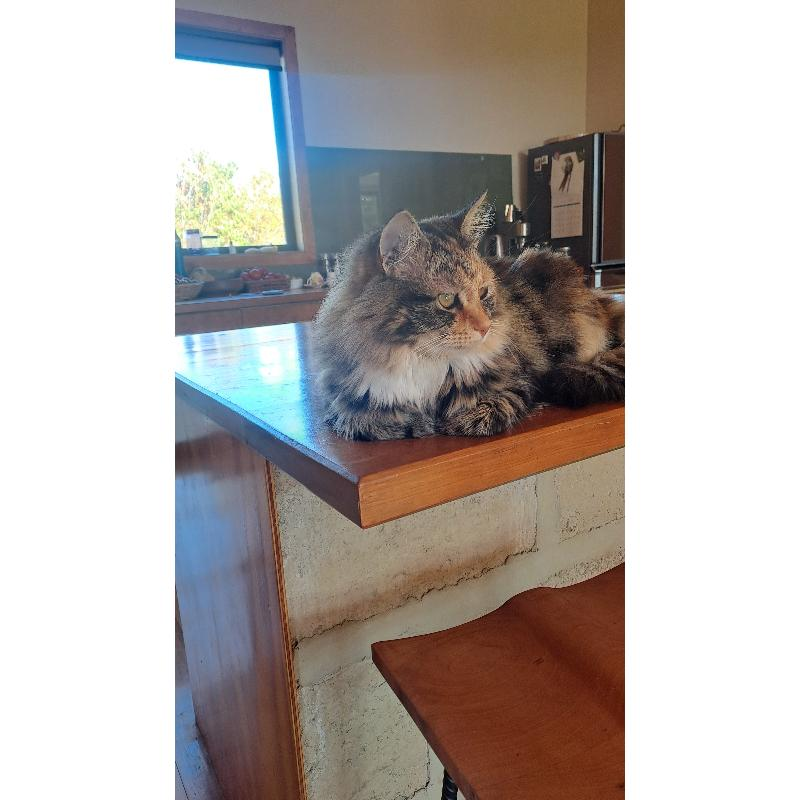red: (309, 188, 625, 442)
